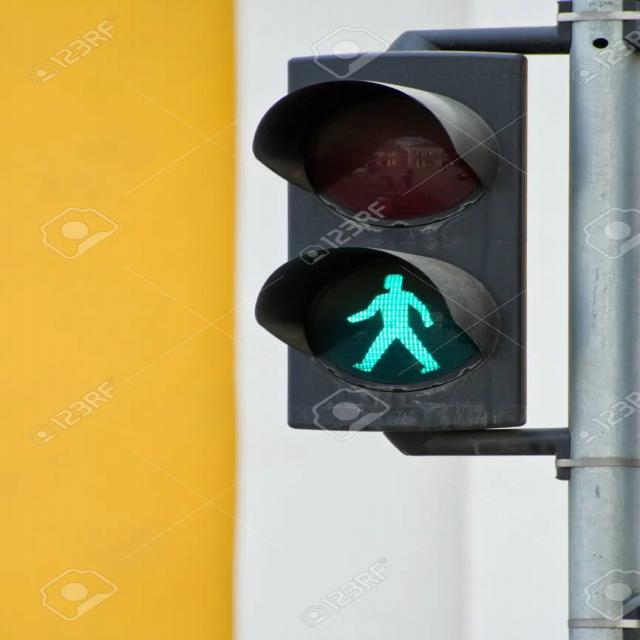Go: (212, 22, 538, 438), (200, 242, 530, 426)
